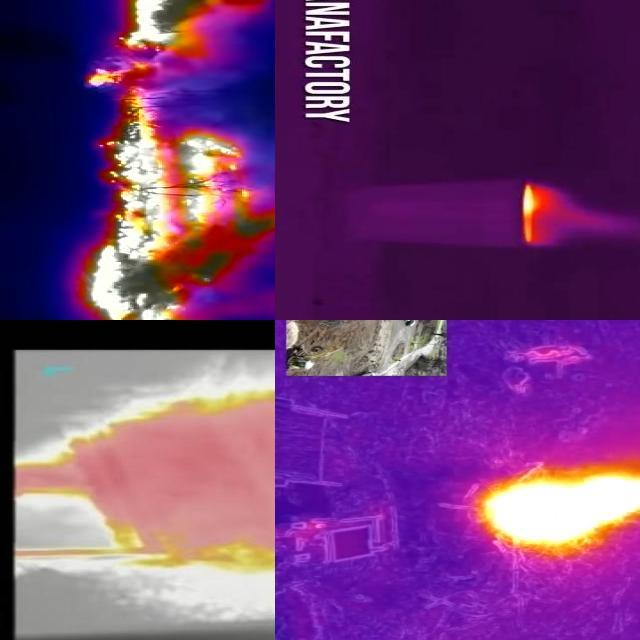fire: (13, 381, 276, 577), (82, 61, 276, 321), (478, 460, 640, 550), (114, 1, 276, 57), (518, 181, 604, 239)
